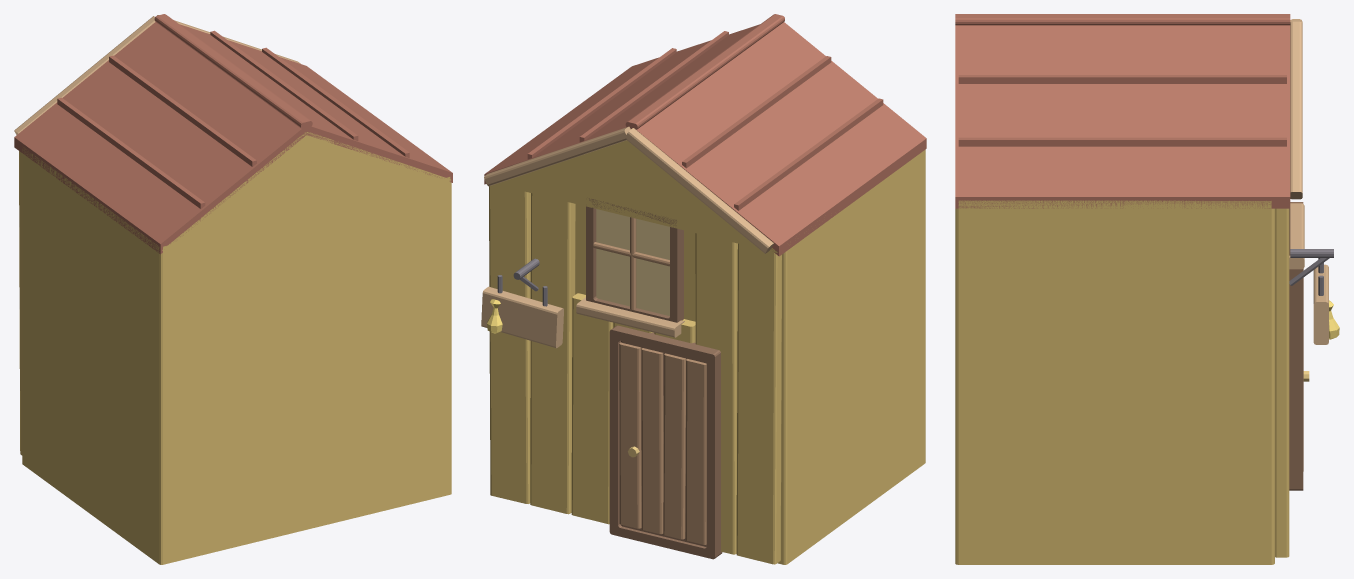
The model's file is Kit_Facade_Narrow.fbx.
3 views of the same model, side by side, from view 1: azimuth 30°, elevation 25°; view 2: azimuth 150°, elevation 25°; view 3: azimuth 270°, elevation 25° (orthographic). The views are drawn at different scales.
Parts seen in each view (by area): view 1: Kit_Facade_Narrow; view 2: Kit_Facade_Narrow; view 3: Kit_Facade_Narrow.
Part boxes in pixels (x1,y1,x2,y2): Kit_Facade_Narrow: [14, 14, 452, 564]; Kit_Facade_Narrow: [481, 14, 926, 564]; Kit_Facade_Narrow: [955, 14, 1339, 564].
Size of the model in its own units: 3 by 4 by 2.98.
